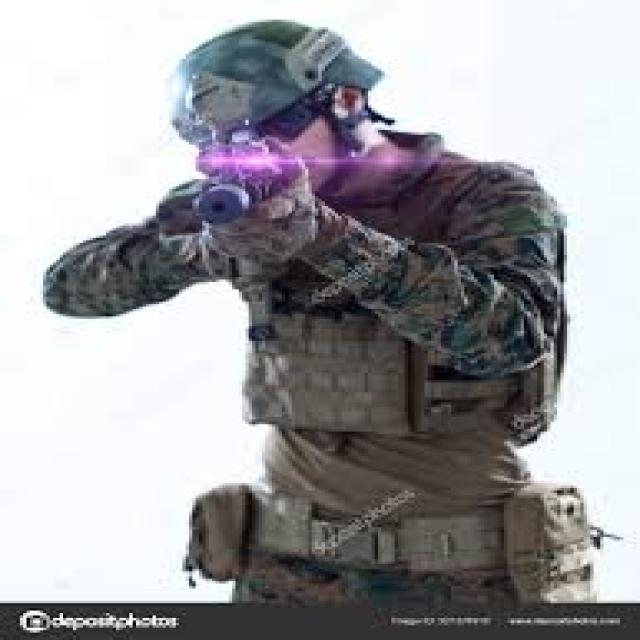soldier: (49, 32, 640, 594)
